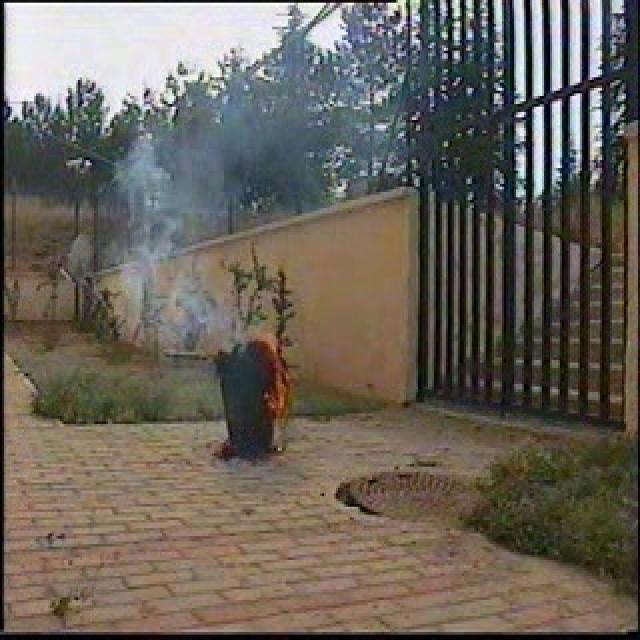Fire: (256, 325, 301, 427)
Smoke: (108, 55, 286, 348)
